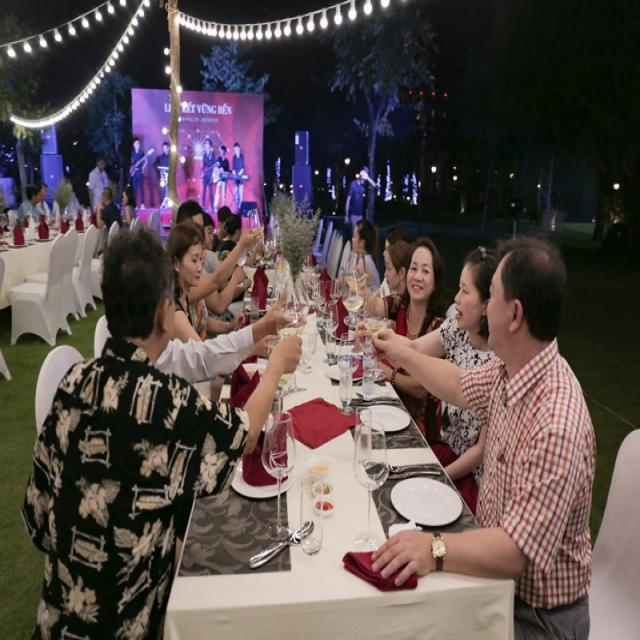body: (19, 216, 308, 639), (368, 231, 597, 640), (353, 245, 506, 519), (354, 234, 447, 446), (151, 284, 303, 384), (165, 221, 274, 358), (173, 196, 250, 287), (349, 208, 407, 317), (214, 211, 253, 304), (345, 164, 377, 230), (87, 153, 114, 230), (128, 137, 149, 212), (210, 144, 232, 215), (95, 186, 124, 234), (201, 137, 216, 214), (16, 182, 42, 224), (230, 140, 245, 212), (158, 140, 170, 212), (119, 184, 138, 229), (34, 182, 52, 224)
